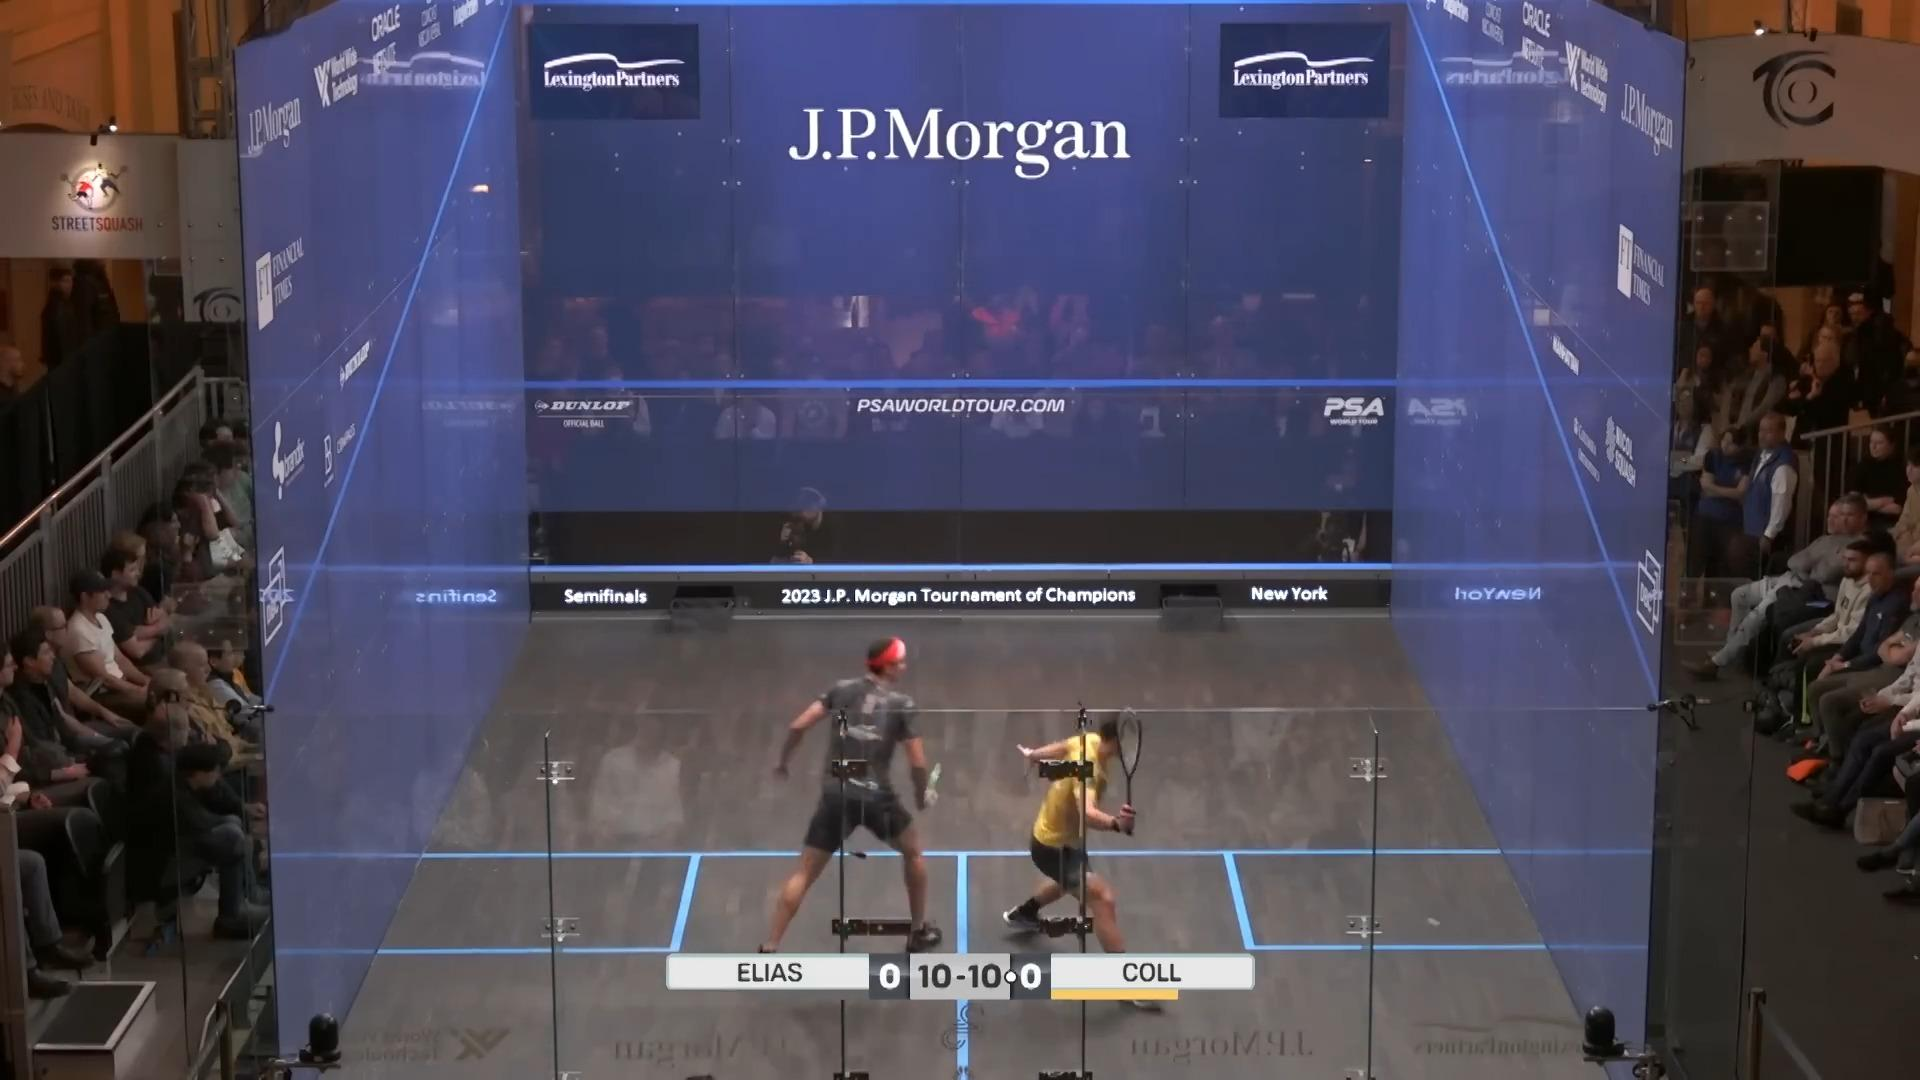Racket: (1109, 712, 1159, 832)
